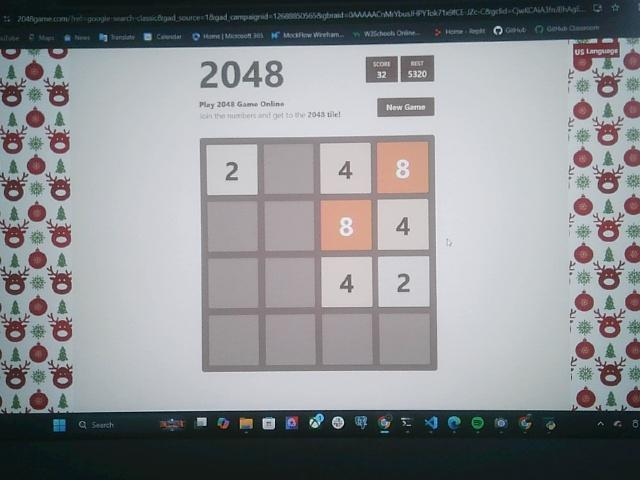best_score_box: (402, 56, 435, 83)
board: (201, 136, 437, 372)
button: (378, 98, 434, 117)
score_box: (366, 56, 397, 83)
tile: (321, 256, 373, 308), (206, 143, 257, 196), (320, 143, 372, 194), (378, 141, 429, 193), (321, 199, 373, 250), (378, 256, 429, 308), (378, 199, 429, 250)
